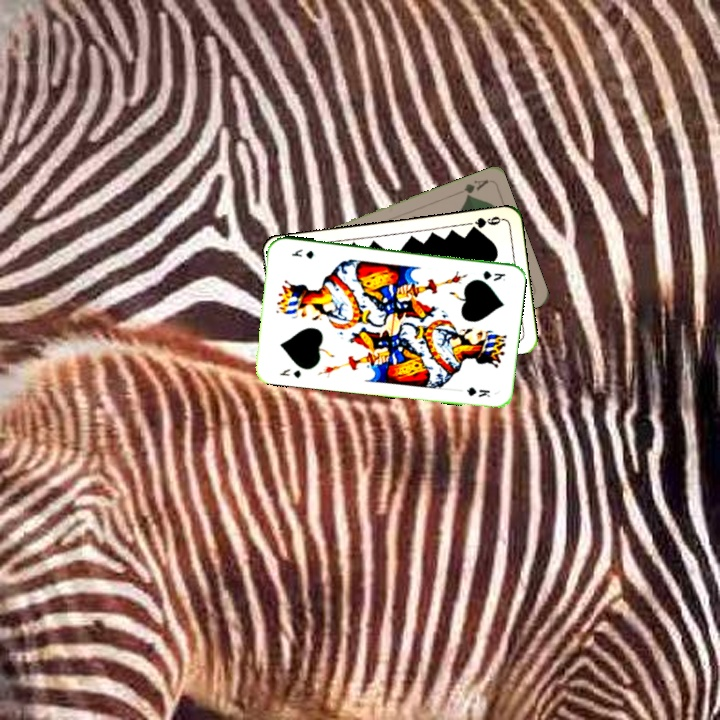G9: (466, 212, 505, 234)
GA: (452, 175, 491, 200)
GK: (479, 267, 508, 284), (275, 365, 303, 380)
